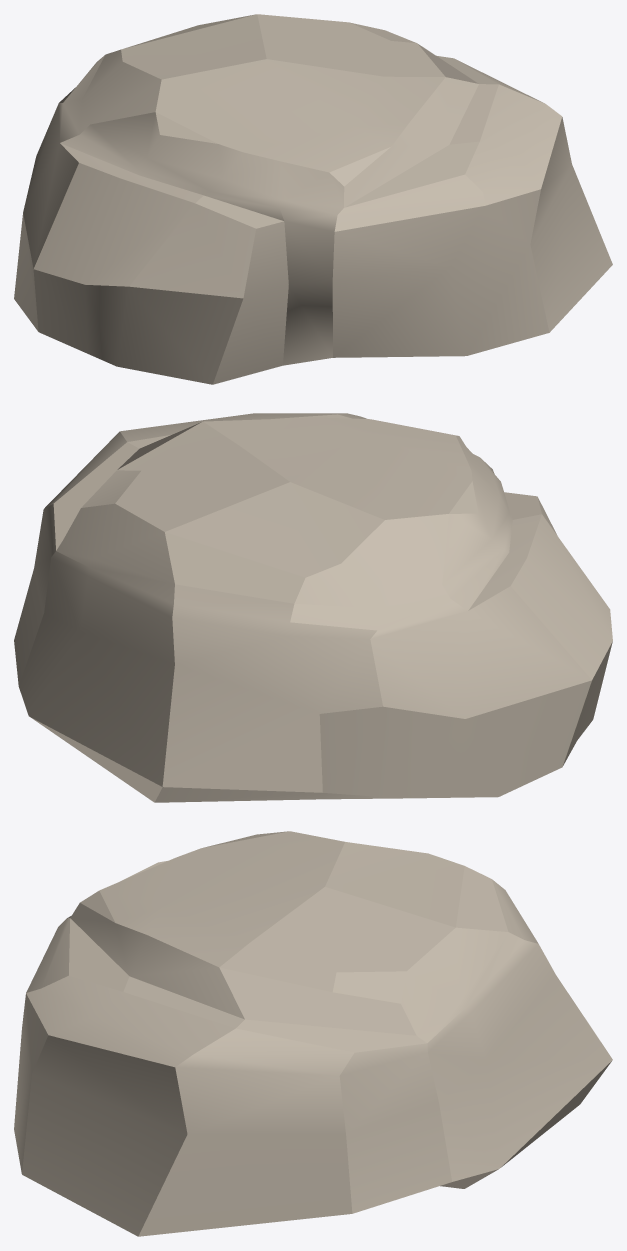
File: cliff-rock-1.glb
The picture shows the model from 3 angles, top to bottom: view 1: azimuth 30°, elevation 25°; view 2: azimuth 150°, elevation 25°; view 3: azimuth 270°, elevation 25°; orthographic projection. The views are drawn at different scales.
Parts seen in each view (by area): view 1: Rock_Large_1; view 2: Rock_Large_1; view 3: Rock_Large_1.
Boxes of the visible parts, x1,y1,x2,y2 form: Rock_Large_1: [14, 14, 612, 384]; Rock_Large_1: [14, 413, 612, 802]; Rock_Large_1: [14, 831, 612, 1236].
Bounding box in the file's own units: 7.67 × 3.29 × 7.33.
